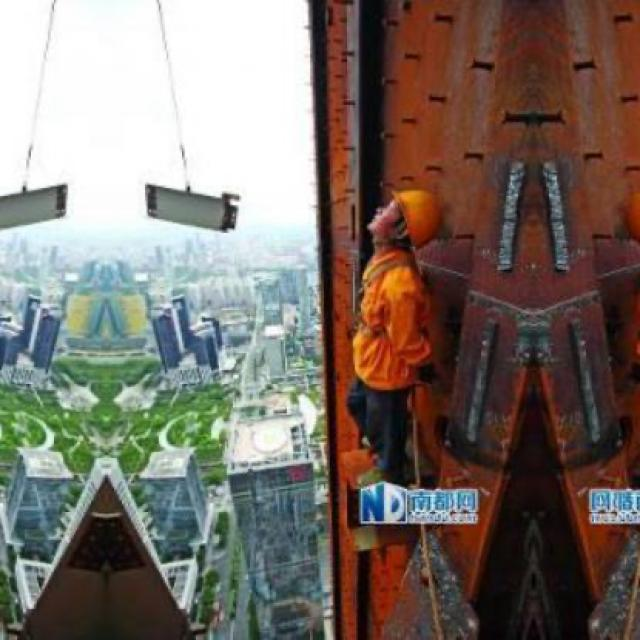helmet: (367, 187, 444, 254), (623, 187, 638, 256)
